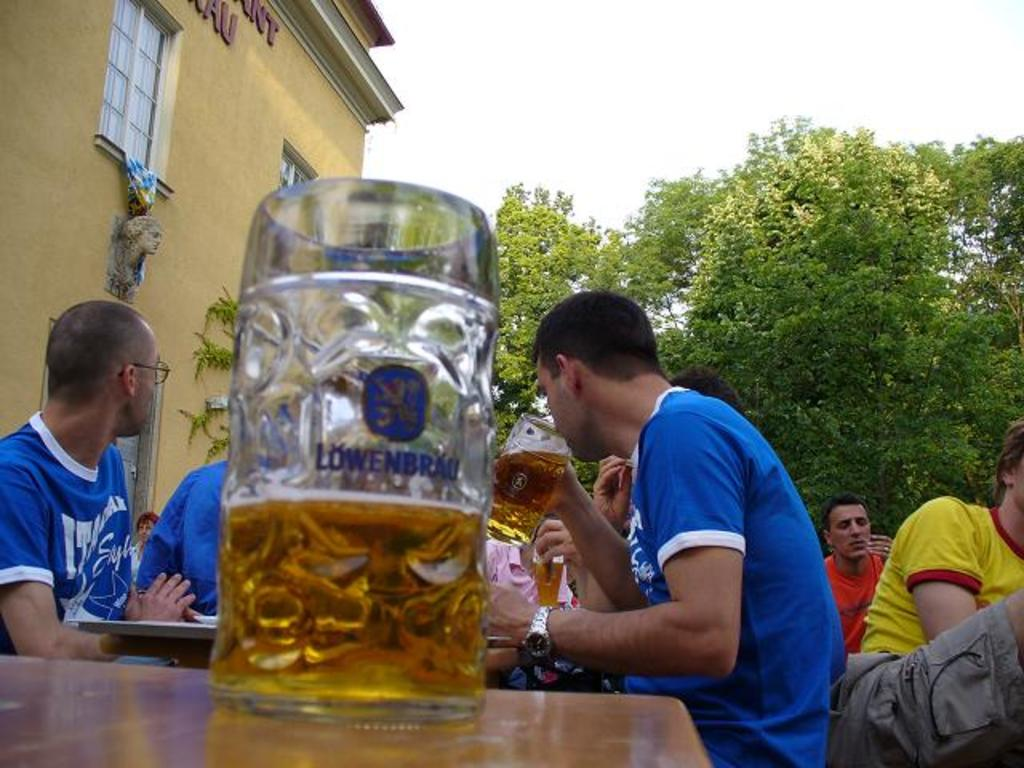Beer: (203, 495, 486, 713), (481, 446, 572, 545), (526, 552, 571, 611)
